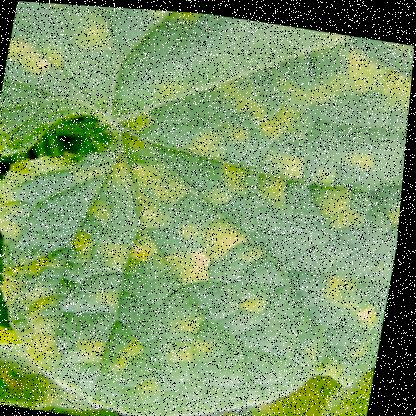DownyMildew: (26, 130, 406, 399), (107, 6, 415, 231), (0, 0, 256, 145)
